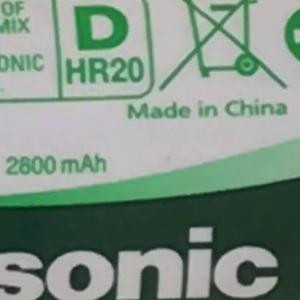keyword: (59, 65, 152, 92)
